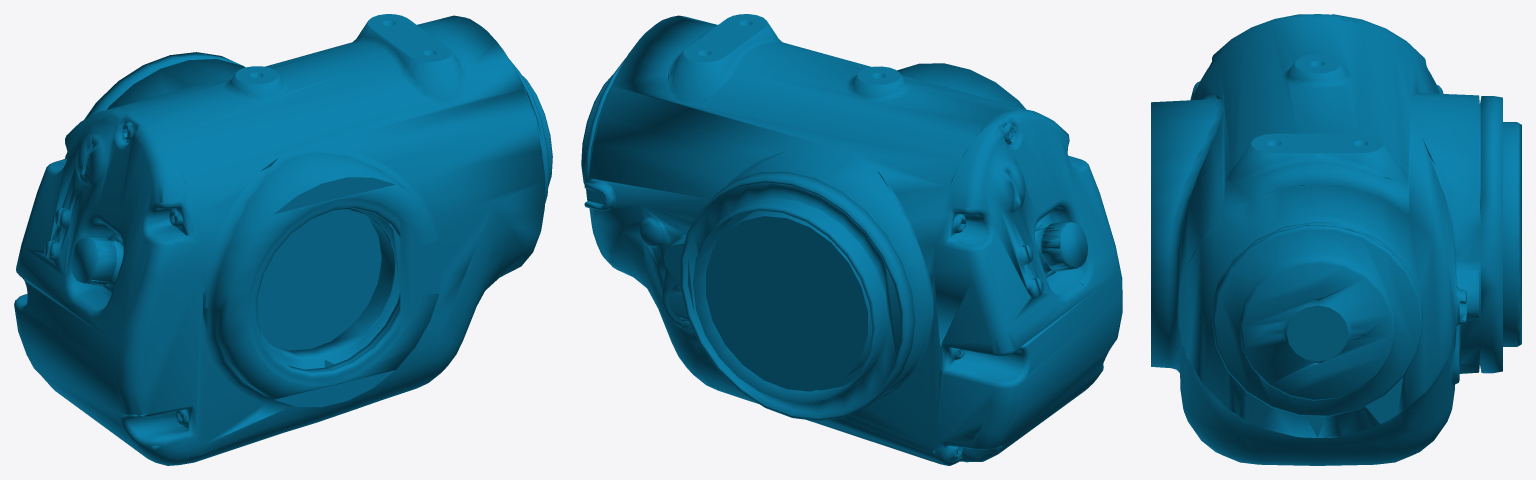
The picture shows the model from 3 angles, left to right: view 1: azimuth 30°, elevation 25°; view 2: azimuth 150°, elevation 25°; view 3: azimuth 270°, elevation 25°; orthographic projection. The views are drawn at different scales.
Parts seen in each view (by area): view 1: link_3; view 2: link_3; view 3: link_3.
Boxes of the visible parts, left/top/right/bottom form: link_3: left=14, top=14, right=552, bottom=465; link_3: left=581, top=14, right=1122, bottom=465; link_3: left=1151, top=14, right=1521, bottom=465.
Bounding box in the file's own units: 0.194 × 0.128 × 0.1317.
